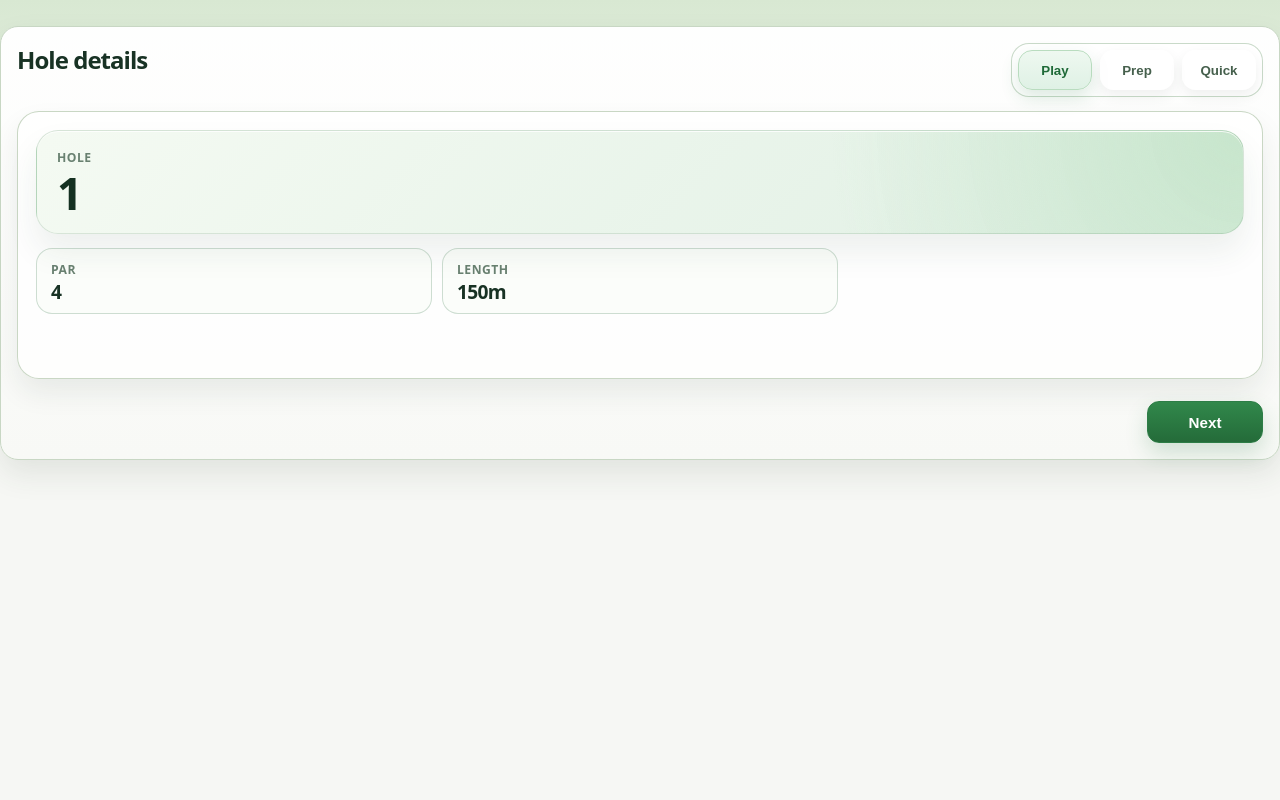
VirtualCaddyPanel › shows the hole overview and advances into the tee-shot flow
This screenshot has width=1280, height=800.
Expected: the heading "Hole details" is shown, x1=17 y1=43 x2=147 y2=76
Expected: the text "Length" is shown, x1=457 y1=260 x2=509 y2=278
Step 1. Click the button "Next" → point(1205, 422), box x1=1147 y1=401 x2=1263 y2=443
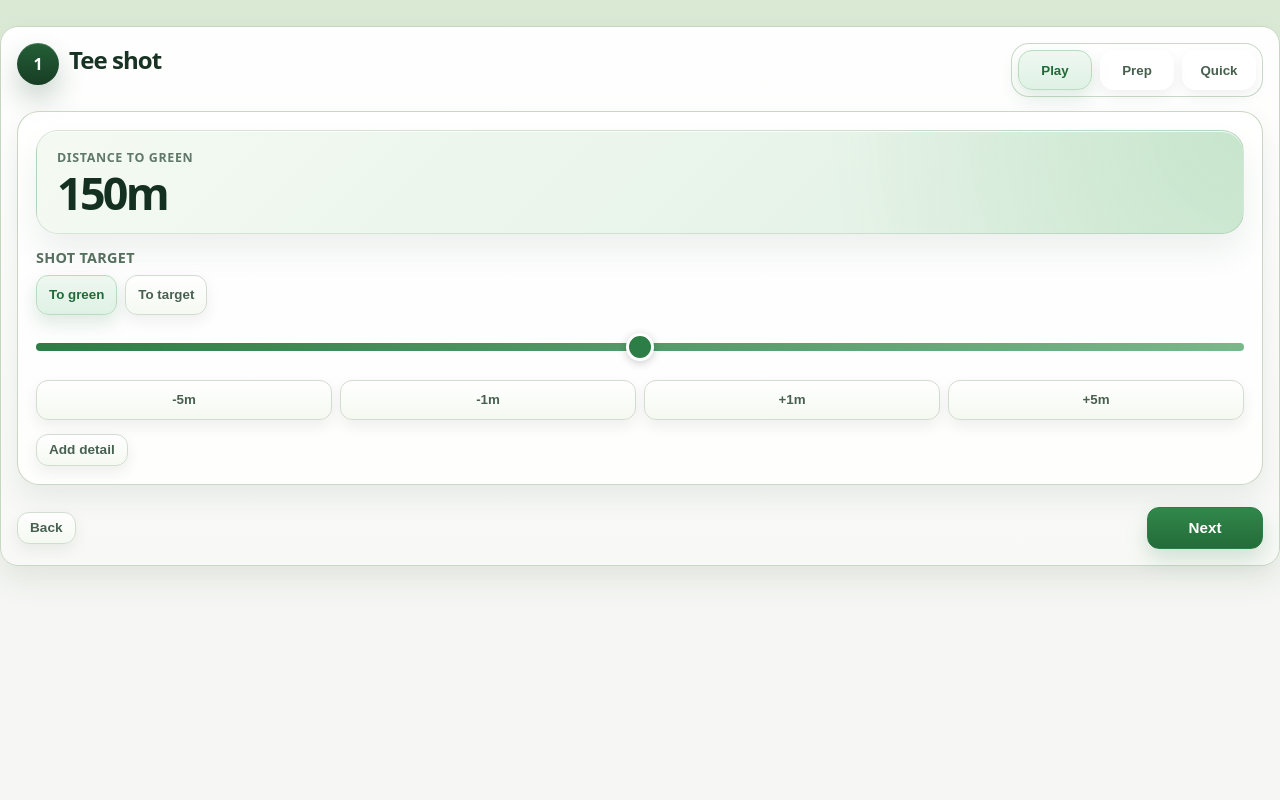
Expected: the heading "Tee shot" is shown, x1=69 y1=43 x2=161 y2=76
Expected: the slider named "Virtual caddy distance to hole" is shown, x1=36 y1=328 x2=1244 y2=364
